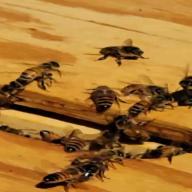Bee: (14, 62, 69, 98), (32, 166, 102, 188), (52, 132, 104, 152), (90, 84, 123, 115)
